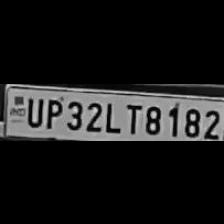1: (164, 102, 180, 136)
2: (200, 104, 220, 138), (84, 97, 103, 131)
3: (63, 96, 81, 130)
8: (142, 101, 162, 135), (182, 103, 200, 137)
L: (102, 97, 120, 132)
P: (42, 96, 62, 128)
T: (122, 100, 140, 134)
U: (22, 94, 42, 128)
